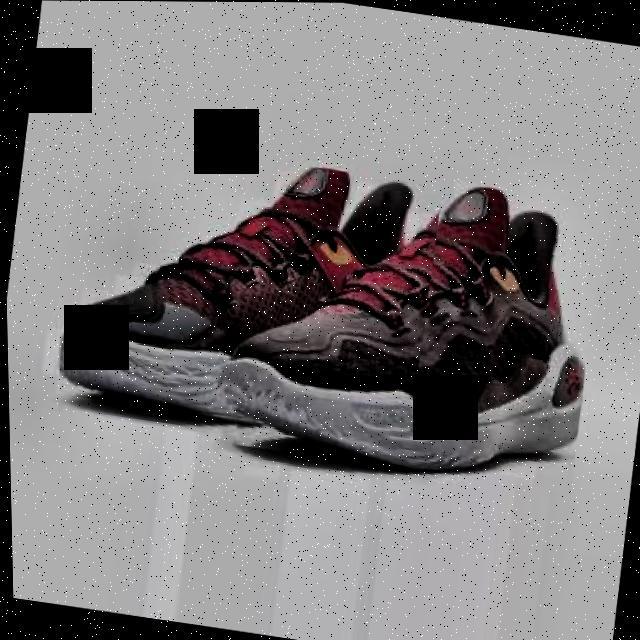shoe: (212, 153, 609, 493), (50, 134, 447, 447)
